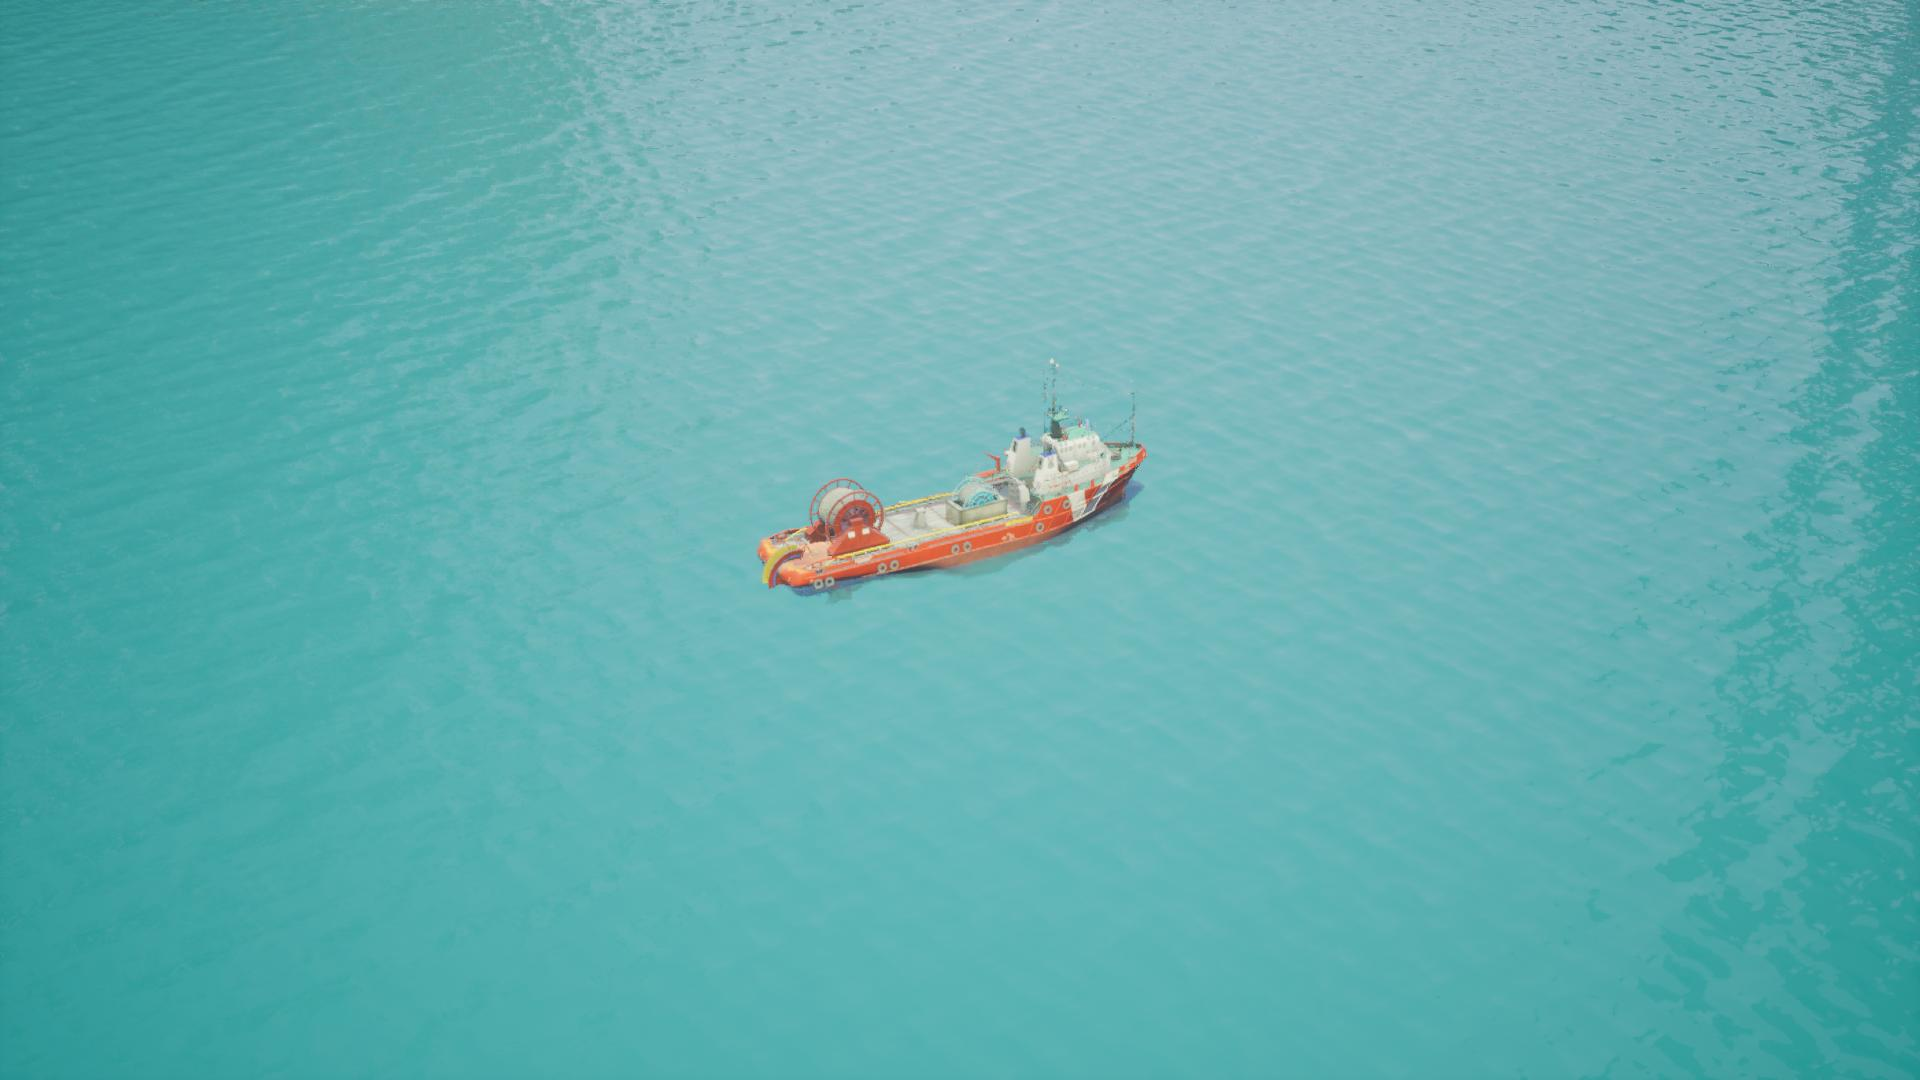Tug Boat: (761, 410, 1151, 591)
